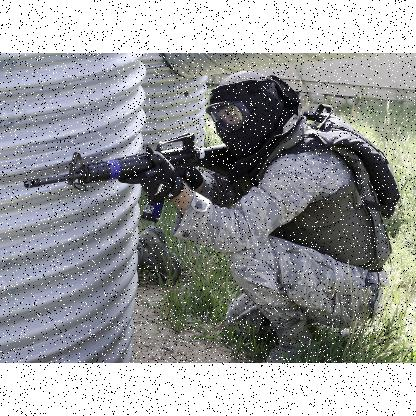gun: (23, 131, 227, 221)
